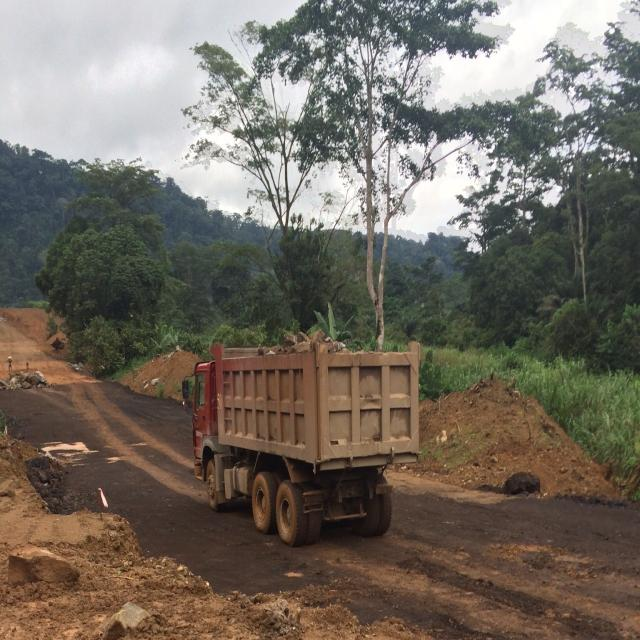Truck: (177, 340, 424, 548)
